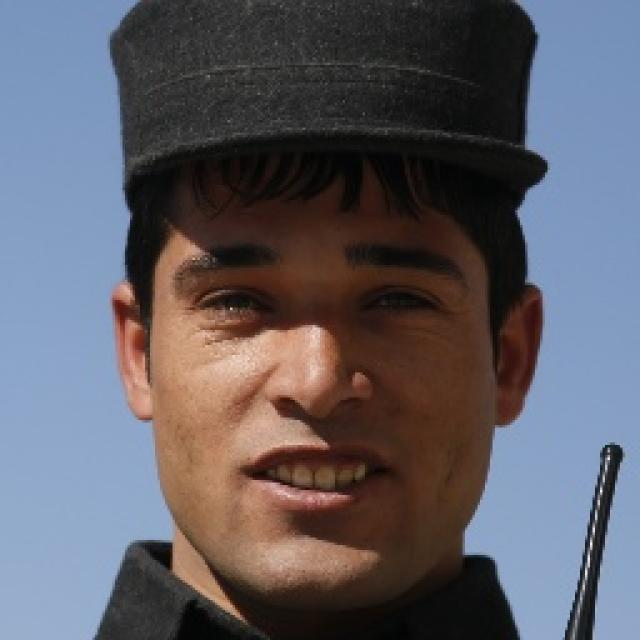earlobe: (492, 382, 526, 428), (124, 371, 154, 422)
eye: (356, 283, 444, 319), (192, 288, 276, 319)
nose: (260, 394, 374, 454)
wholeear: (492, 283, 544, 427), (109, 282, 155, 423)
